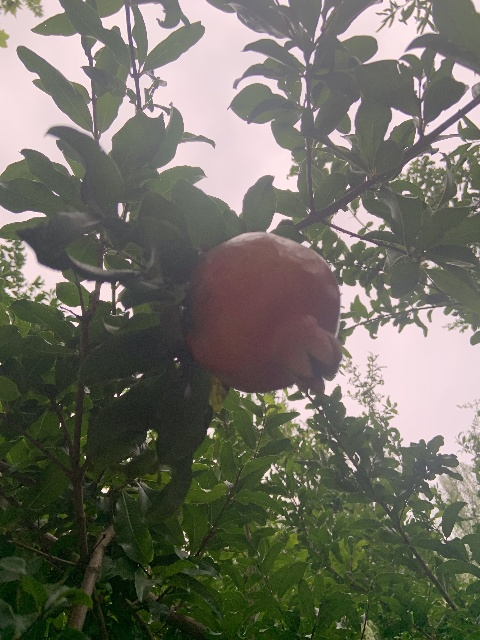ripe: (184, 231, 343, 394)
